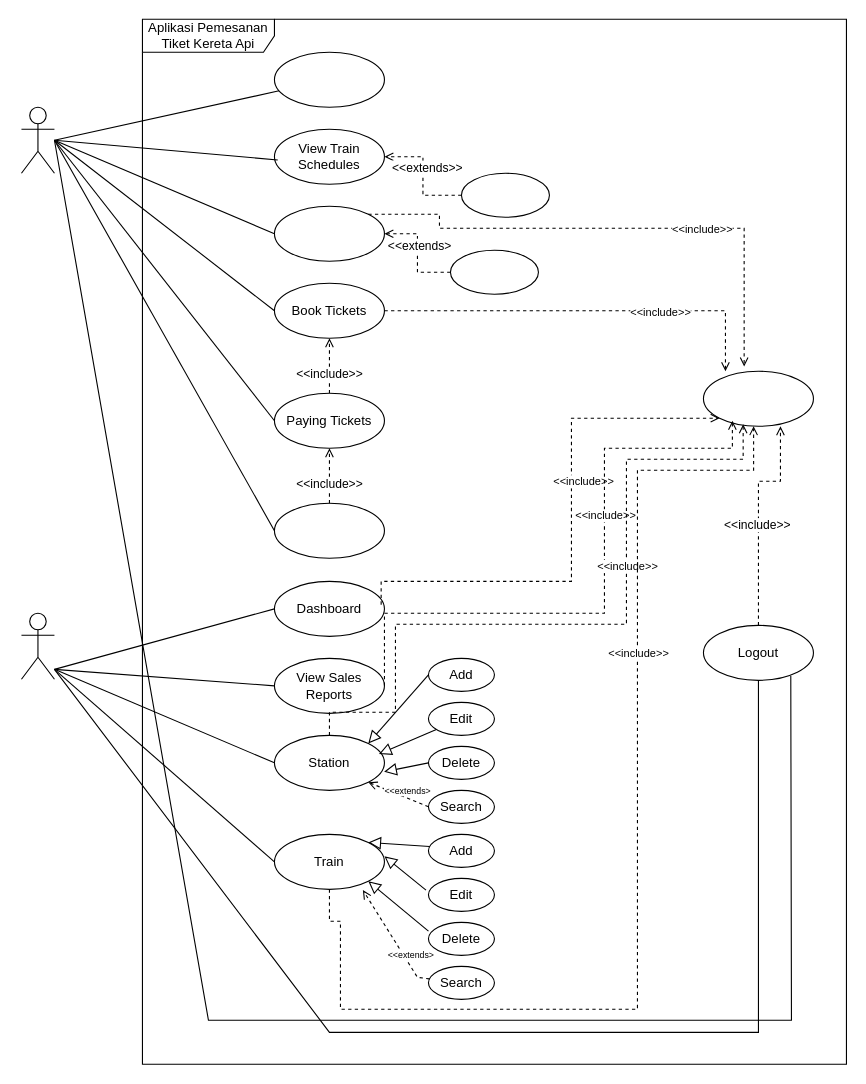
This 866x1084 diagram has some shape labels left out. Here are the shapes that lost their labels. From the top down, the box of each, then its label:
(273, 51, 384, 107): Create Account
(20, 106, 54, 173): User
(460, 172, 549, 217): Cetak Tiket
(273, 205, 384, 261): Looking for Tickets
(449, 249, 538, 294): Cari Tiket
(702, 370, 813, 426): Login
(273, 502, 384, 558): View Order History
(20, 612, 54, 679): Admin
